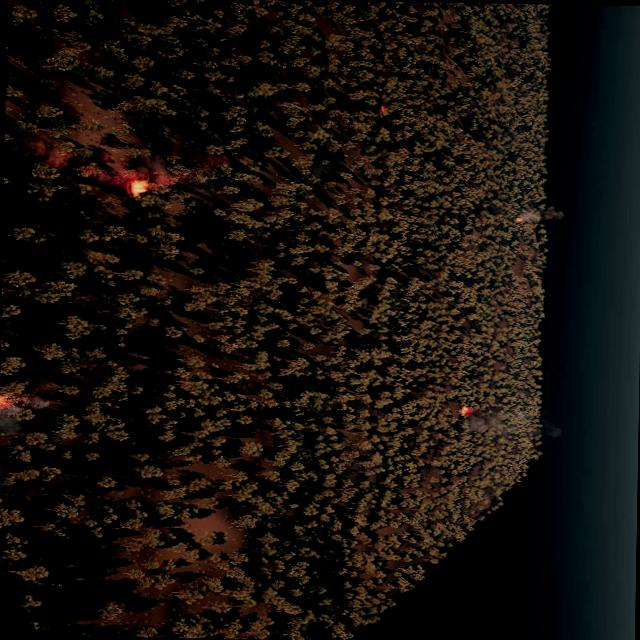fire: (128, 180, 148, 193), (0, 393, 12, 409), (378, 104, 388, 114), (459, 405, 471, 413)
smoke: (4, 133, 228, 193), (0, 390, 52, 445), (466, 406, 504, 434), (516, 205, 564, 224)
